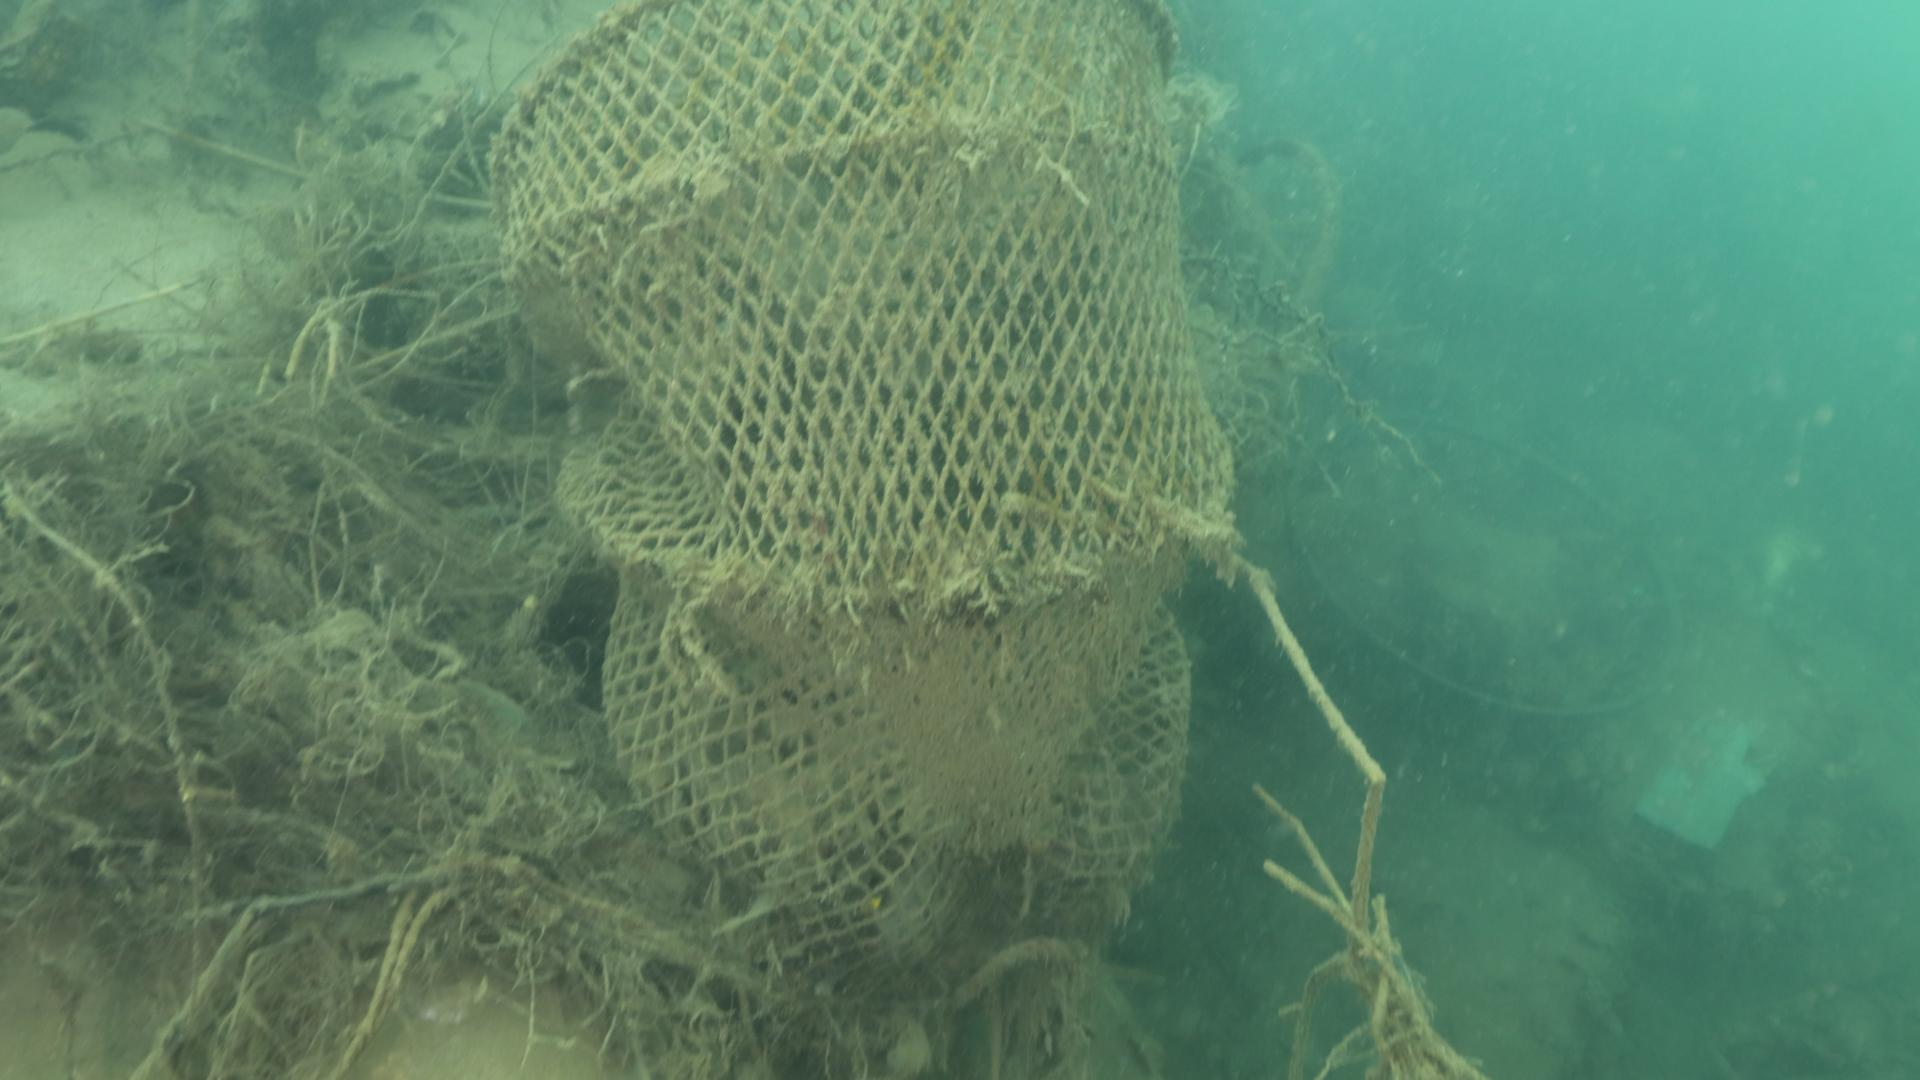spring fish trap: (485, 0, 1240, 1007)
